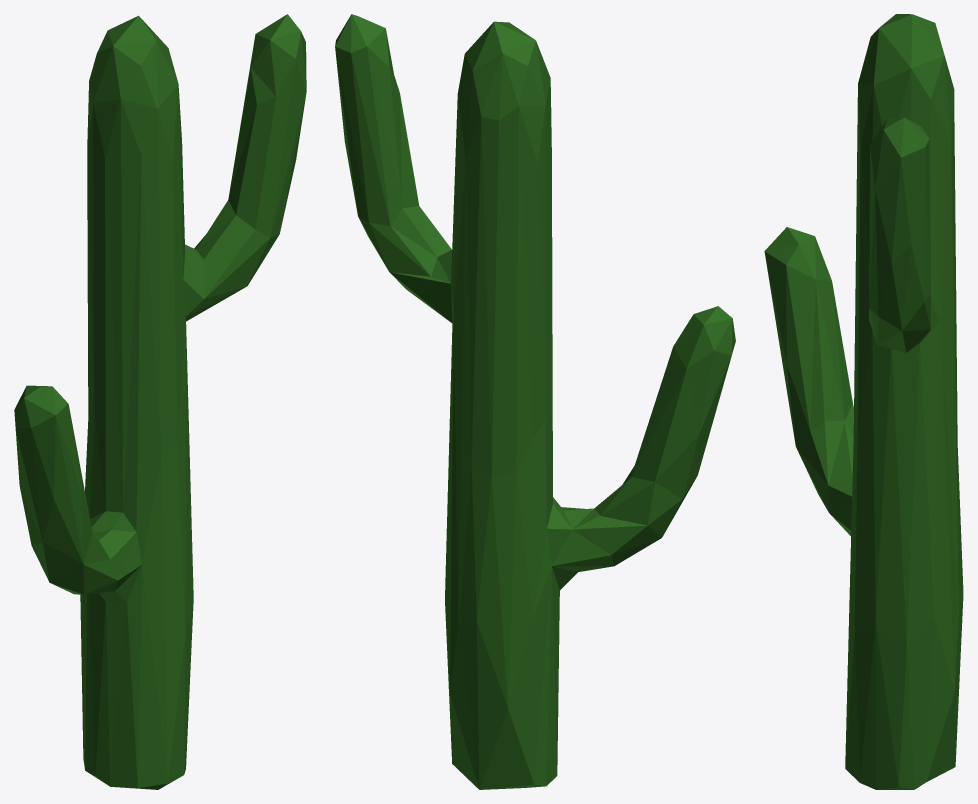
File: SM_cactus_02.fbx
The picture shows the model from 3 angles, left to right: view 1: azimuth 30°, elevation 25°; view 2: azimuth 150°, elevation 25°; view 3: azimuth 270°, elevation 25°; orthographic projection.
Parts seen in each view (by area): view 1: Object220; view 2: Object220; view 3: Object220.
Boxes of the visible parts, left/top/right/bottom form: Object220: left=14, top=14, right=306, bottom=789; Object220: left=335, top=14, right=735, bottom=789; Object220: left=764, top=14, right=963, bottom=789.
Size of the model in its own units: 51 by 25.32 by 108.
